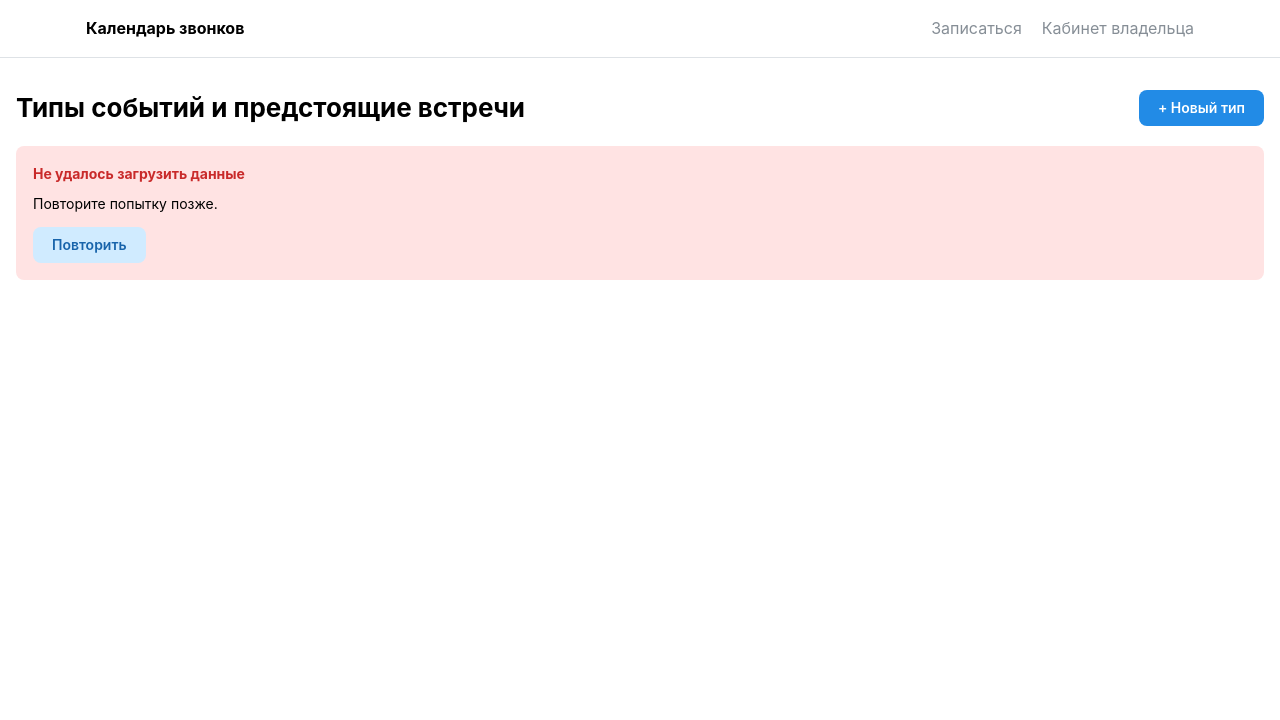
Test case: кабинет /admin › показывает ошибку чтения и повторяет запрос по «Повторить»
Expected: the message shows "Не удалось загрузить данные", [33, 165, 245, 182]
Expected: the text "Повторите попытку позже." is shown, [33, 194, 218, 215]
Click the button "Повторить": x=89, y=245 [33, 227, 146, 263]
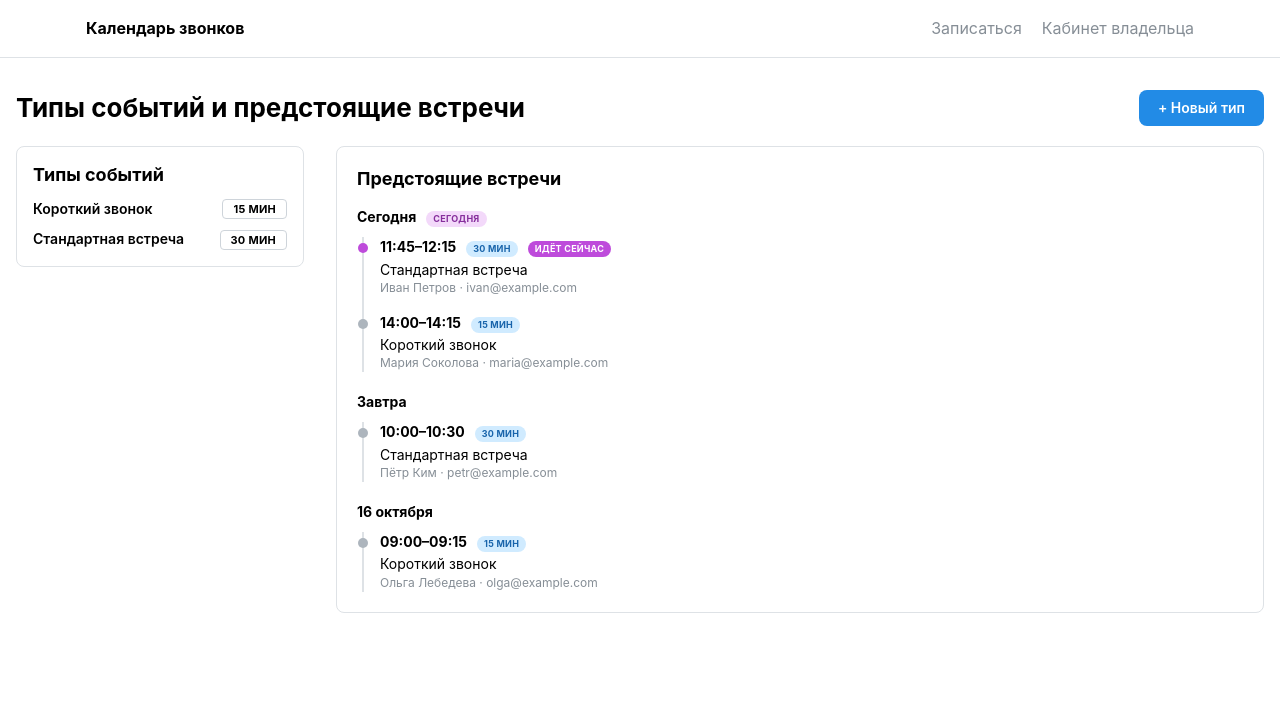
Expected: the element "Предстоящие встречи" is shown, [336, 146, 1264, 613]
